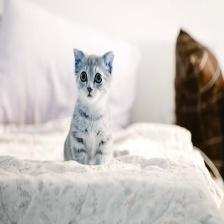kedo: (65, 49, 129, 166)
